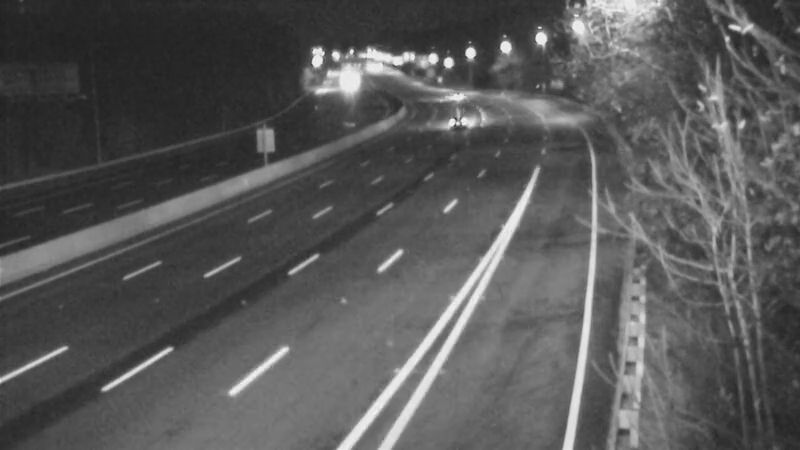vehicle: (436, 72, 486, 122), (429, 98, 479, 148), (325, 54, 375, 104)
